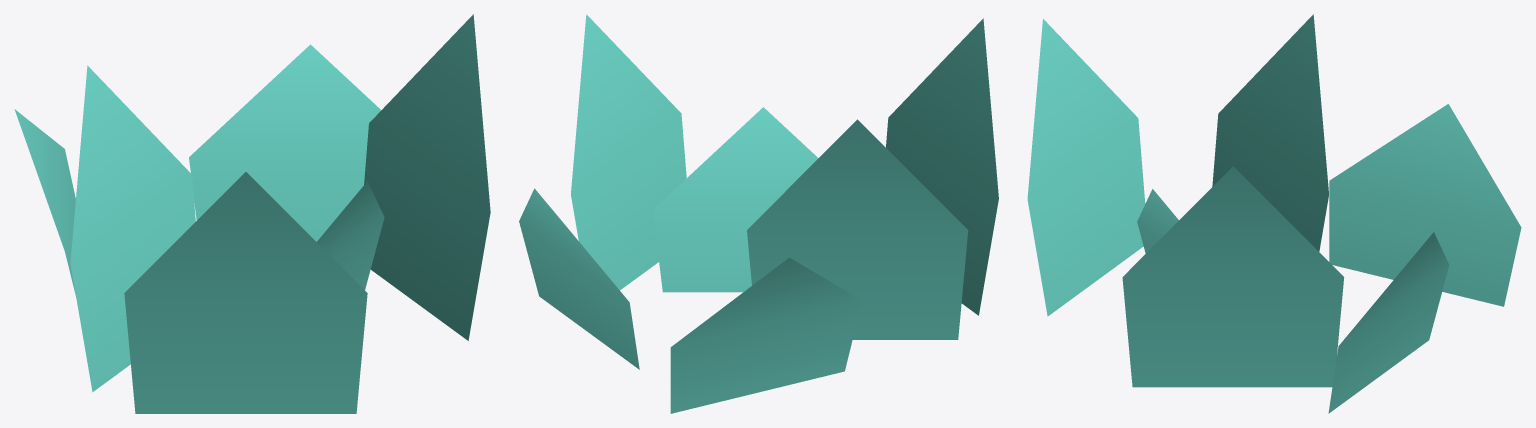
Rendered from grass-leafs.glb.
3 views of the same model, side by side, from view 1: azimuth 30°, elevation 25°; view 2: azimuth 150°, elevation 25°; view 3: azimuth 270°, elevation 25° (orthographic). The views are drawn at different scales.
Parts seen in each view (by area): view 1: grass_leafs; view 2: grass_leafs; view 3: grass_leafs.
Part boxes in pixels (x1,y1,x2,y2): grass_leafs: [14, 14, 490, 413]; grass_leafs: [519, 14, 998, 413]; grass_leafs: [1027, 14, 1521, 413].
Bounding box in the file's own units: 0.2345 × 0.1425 × 0.2573.
